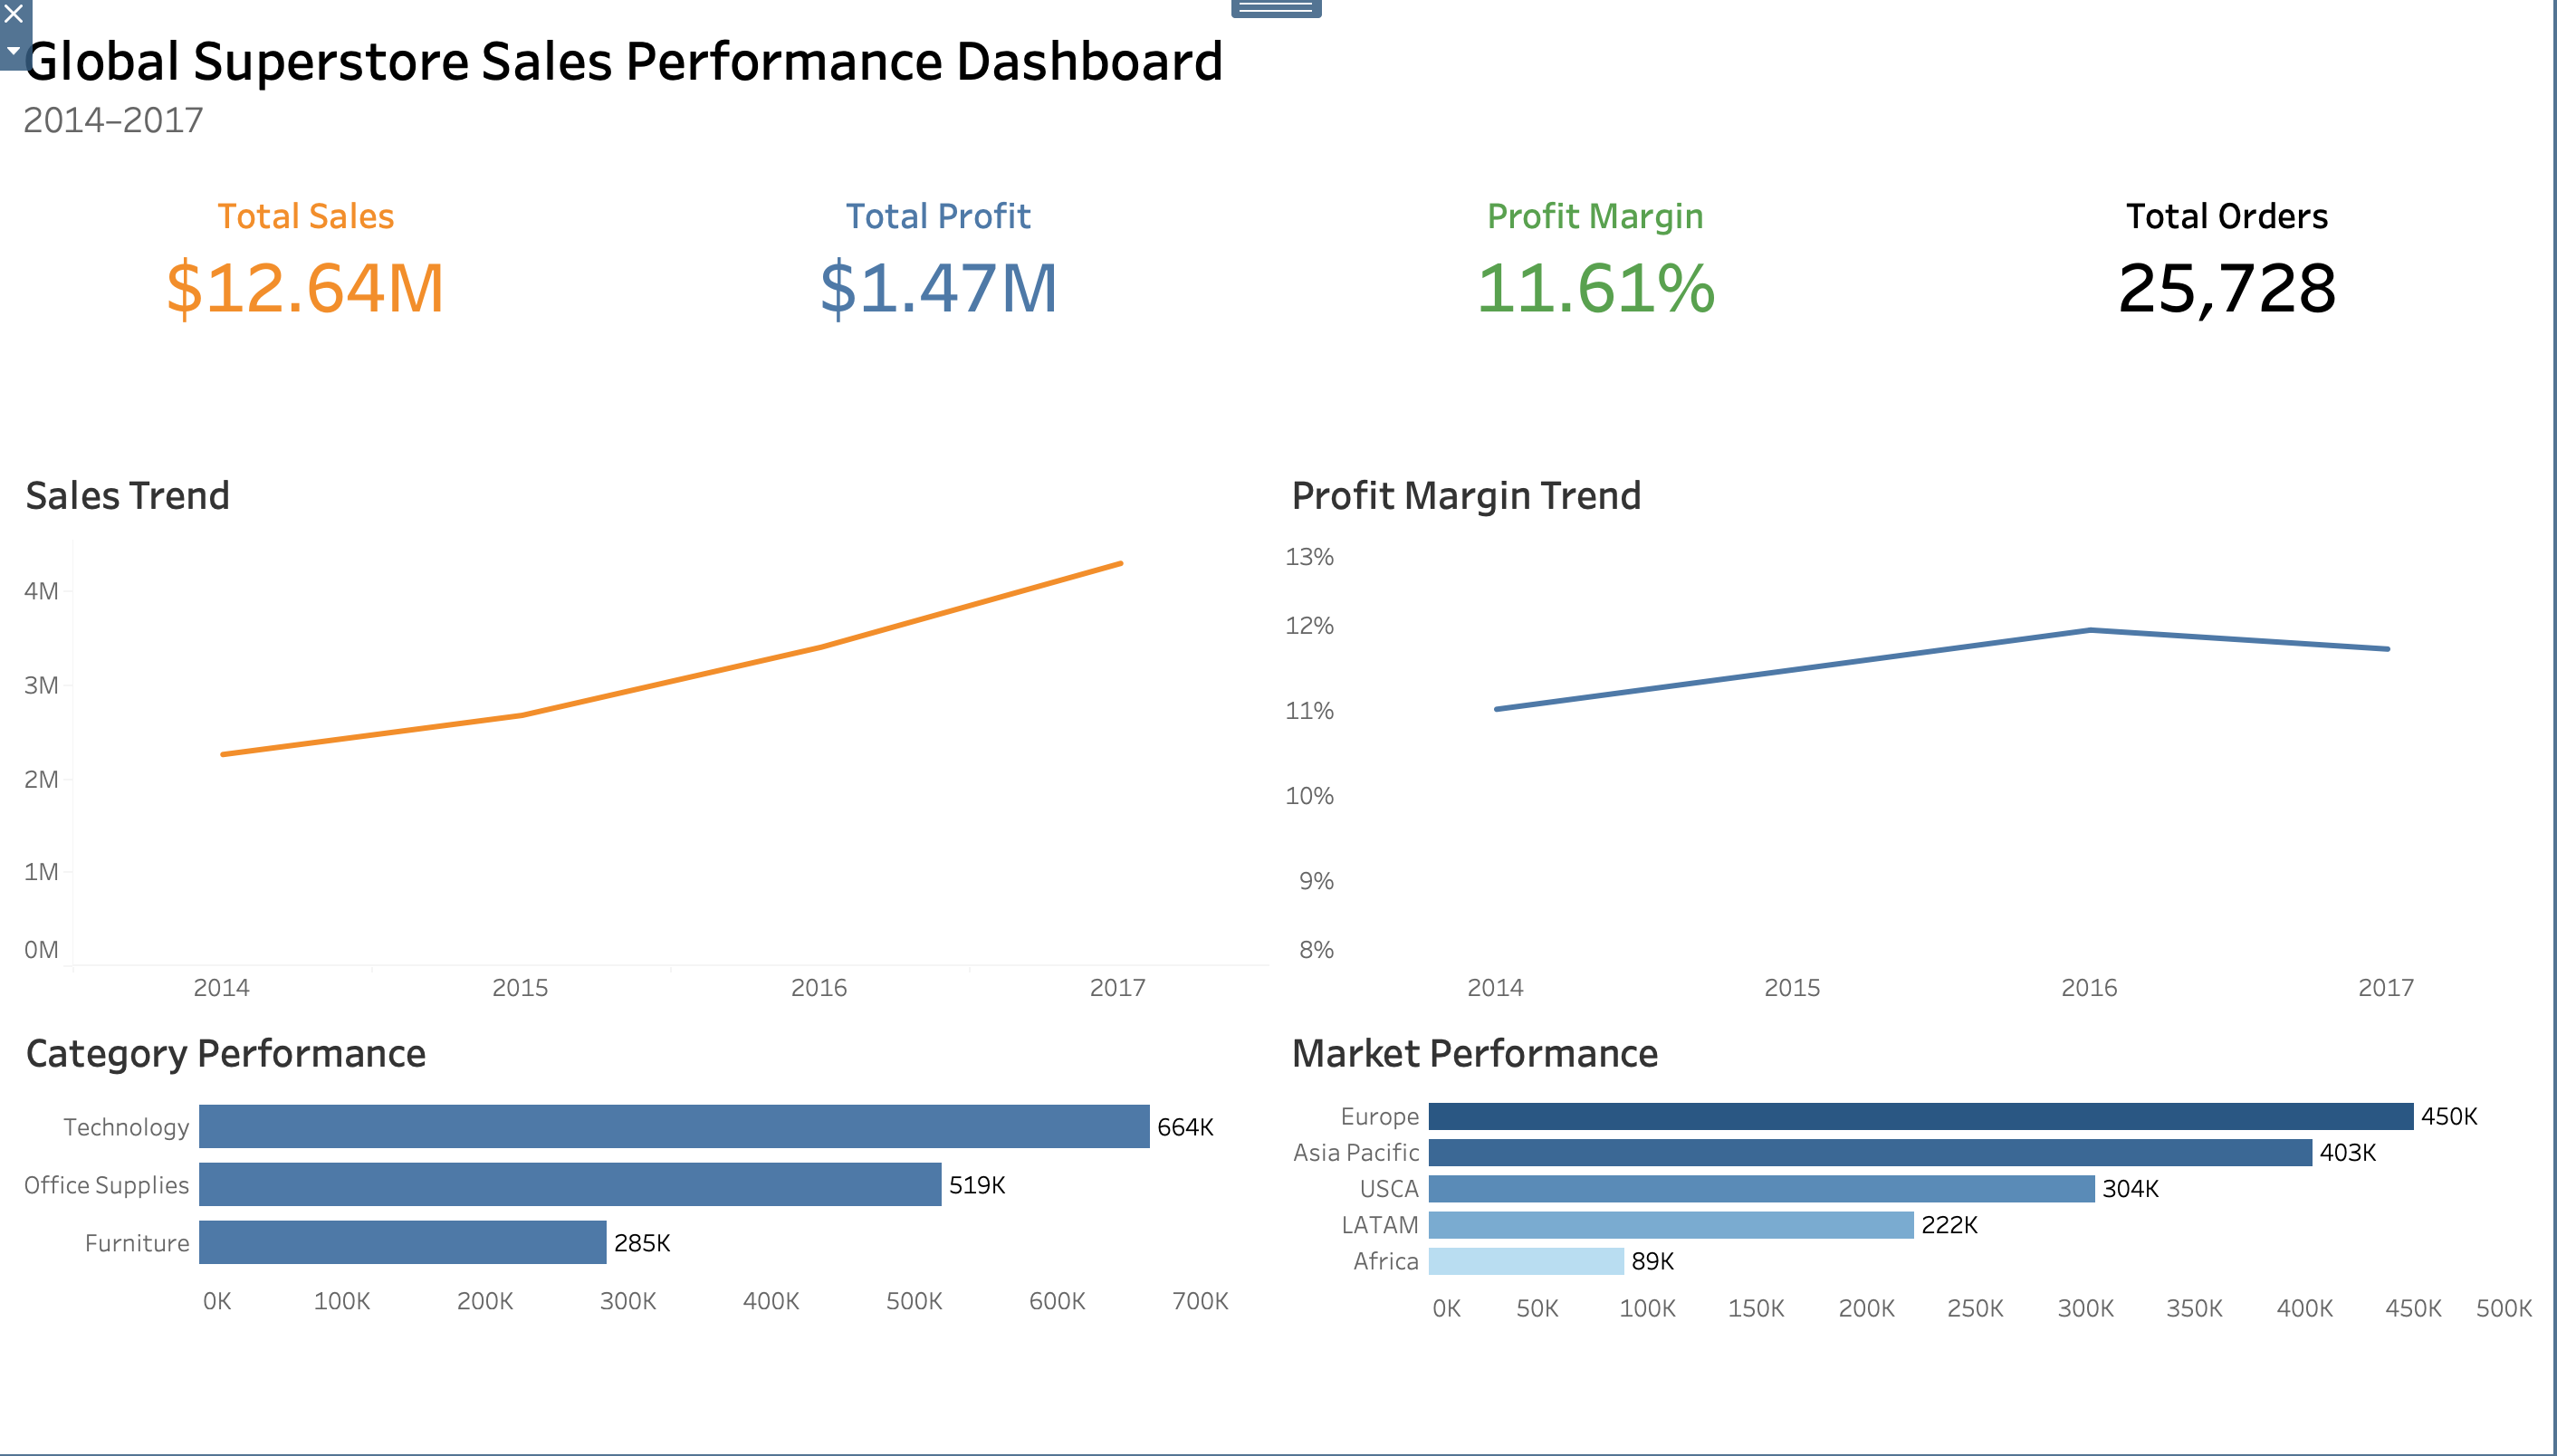

Layout of this report page (visuals, bound fields, positions):
{"tool":"tableau","page":{"name":"Global Superstore Sales Performance Dashboard","canvas":[1000,1000],"units":"permille","ordinal":0},"visuals":[{"type":"text","box":[5.7,9.9,988.7,101.5]},{"type":"worksheet","title":"KPI - Total Sales","mark":"Automatic","box":[5.7,111.4,231.4,201.3]},{"type":"worksheet","title":"KPI - Total Profit","mark":"Automatic","box":[237.1,111.4,262.9,201.3]},{"type":"worksheet","title":"KPI - Profit Margin","mark":"Automatic","box":[500,111.4,249.7,201.3]},{"type":"worksheet","title":"KPI - Total Orders","mark":"Automatic","box":[749.7,111.4,244.6,201.3]},{"type":"worksheet","title":"Sales Trend","mark":"Automatic","rows":["sales"],"cols":["order_date"],"box":[5.7,312.6,494.3,382.2]},{"type":"worksheet","title":"Profit Margin Trend","mark":"Automatic","rows":["Calculation_4137762240221184"],"cols":["order_date"],"box":[500,312.6,494.3,382.2]},{"type":"worksheet","title":"Category Performance","mark":"Automatic","rows":["category"],"cols":["profit"],"box":[5.7,694.9,494.3,295.2]},{"type":"worksheet","title":"Market Performance","mark":"Automatic","rows":["market"],"cols":["profit"],"box":[500,694.9,494.3,295.2]}]}

Visuals, with their boxes on the dashboard's canvas, which has no fixed pixel size, in thousandths of its width and height (x1, y1, x2, y2). These are canvas units, not pixel positions in the 2557x1456 screenshot, which may show the page scaled, cropped or inside an application window:
text: 6, 10, 994, 111
"KPI - Total Sales" worksheet: 6, 111, 237, 313
"KPI - Total Profit" worksheet: 237, 111, 500, 313
"KPI - Profit Margin" worksheet: 500, 111, 750, 313
"KPI - Total Orders" worksheet: 750, 111, 994, 313
"Sales Trend" worksheet: 6, 313, 500, 695
"Profit Margin Trend" worksheet: 500, 313, 994, 695
"Category Performance" worksheet: 6, 695, 500, 990
"Market Performance" worksheet: 500, 695, 994, 990
